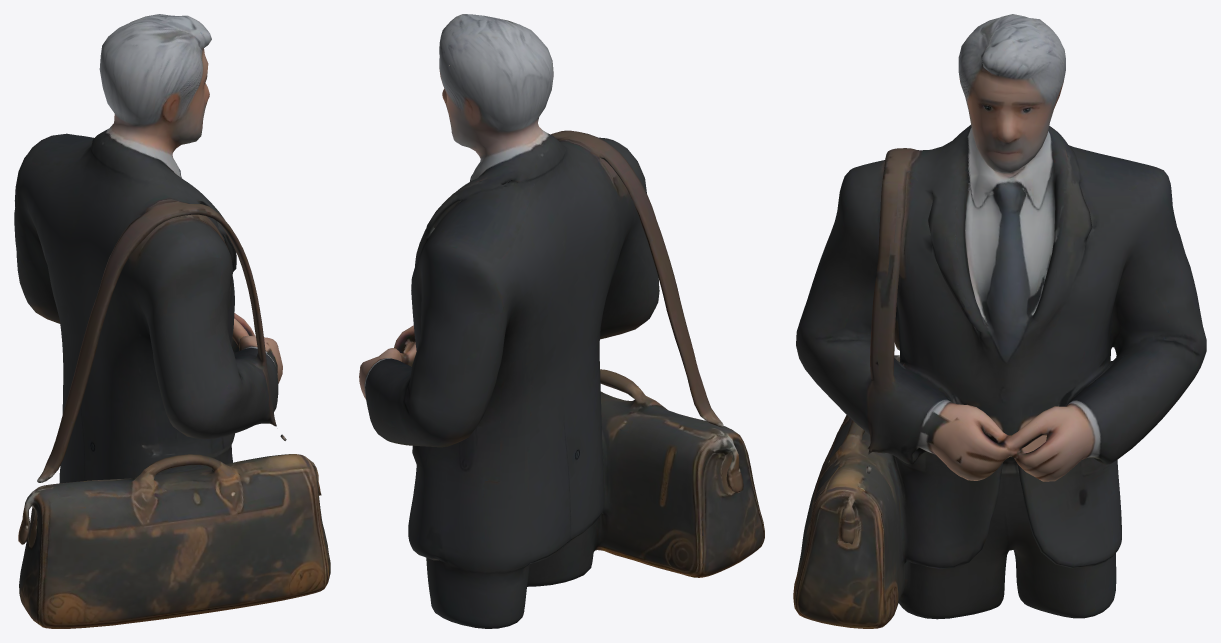
The model's file is suspect_3.glb.
The picture shows the model from 3 angles, left to right: view 1: azimuth 30°, elevation 25°; view 2: azimuth 150°, elevation 25°; view 3: azimuth 270°, elevation 25°; orthographic projection. The views are drawn at different scales.
Parts seen in each view (by area): view 1: tripo_node_579b99ff-d053-4af5-8b74-bc242d3c55c2; view 2: tripo_node_579b99ff-d053-4af5-8b74-bc242d3c55c2; view 3: tripo_node_579b99ff-d053-4af5-8b74-bc242d3c55c2.
Boxes of the visible parts, bbox=[...] form: tripo_node_579b99ff-d053-4af5-8b74-bc242d3c55c2: bbox=[14, 14, 330, 628]; tripo_node_579b99ff-d053-4af5-8b74-bc242d3c55c2: bbox=[359, 14, 764, 628]; tripo_node_579b99ff-d053-4af5-8b74-bc242d3c55c2: bbox=[793, 14, 1206, 628].
Size of the model in its own units: 0.5744 by 0.9915 by 0.6338.
Materials: 1 (1 with a texture image).
